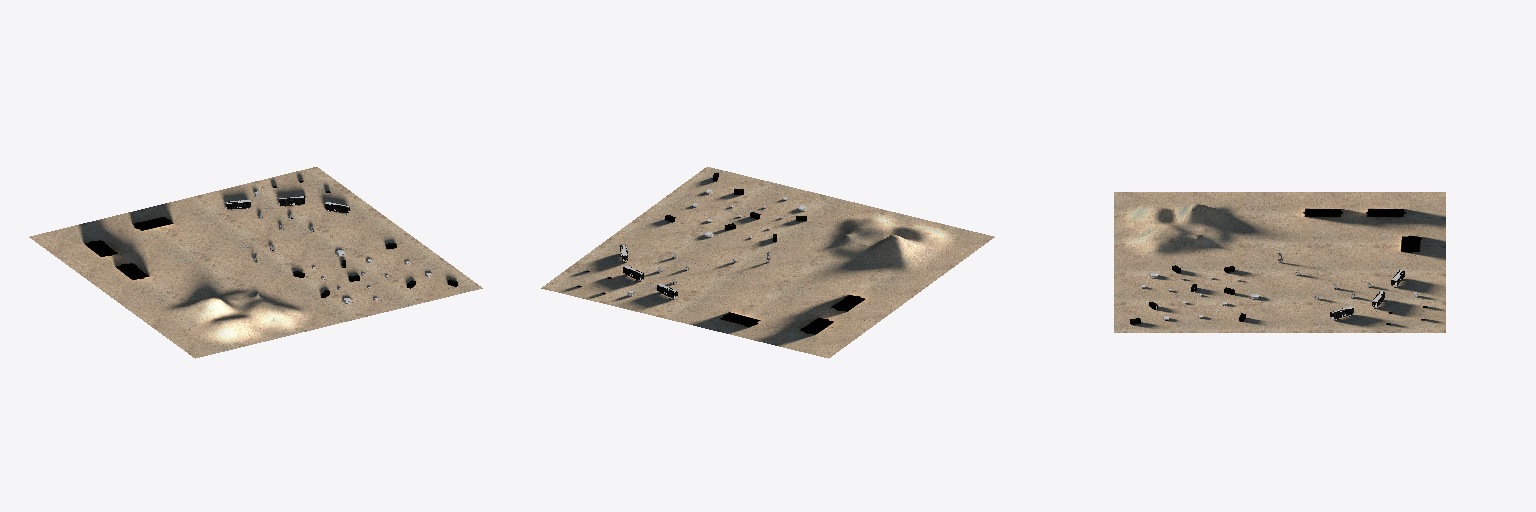
3 renders of one model, left to right at view 1: azimuth 30°, elevation 25°; view 2: azimuth 150°, elevation 25°; view 3: azimuth 270°, elevation 25°, orthographic.
Size of the model in its own units: 60.34 by 3.78 by 60.34.
49 materials, 4 textured.